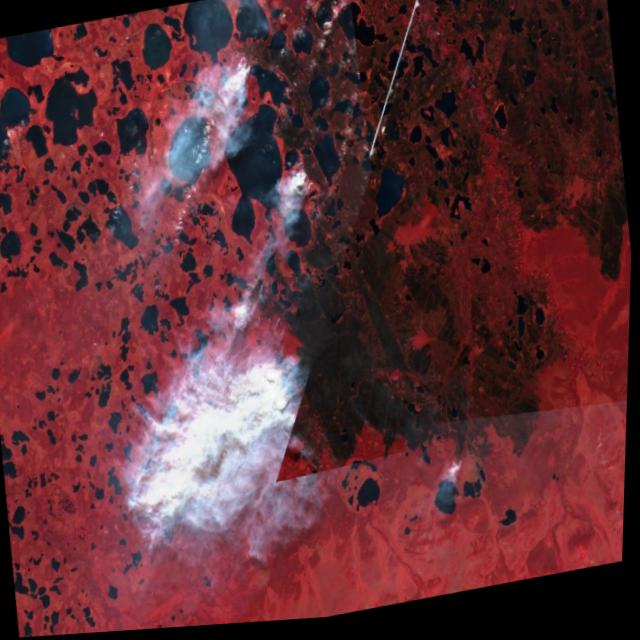fire: (231, 249, 340, 493), (424, 441, 483, 520), (280, 144, 335, 214), (217, 30, 264, 96)
